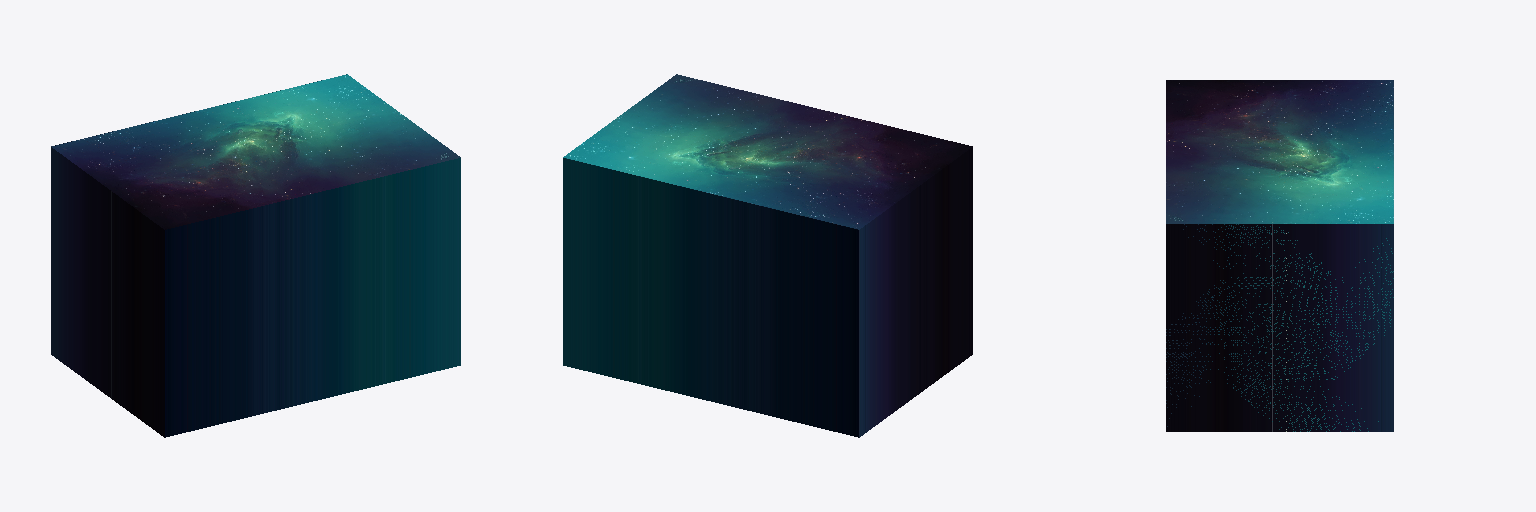
The picture shows the model from 3 angles: view 1: azimuth 30°, elevation 25°; view 2: azimuth 150°, elevation 25°; view 3: azimuth 270°, elevation 25°; orthographic projection.
Visible parts, largest first — view 1: Cube_1; view 2: Cube_1; view 3: Cube_1.
Part boxes in pixels (x1,y1,x2,y2): Cube_1: (51, 74, 460, 437); Cube_1: (563, 74, 972, 437); Cube_1: (1166, 80, 1393, 431).
Bounding box in the file's own units: 3 × 2.01 × 1.99.
1 materials, 1 textured.